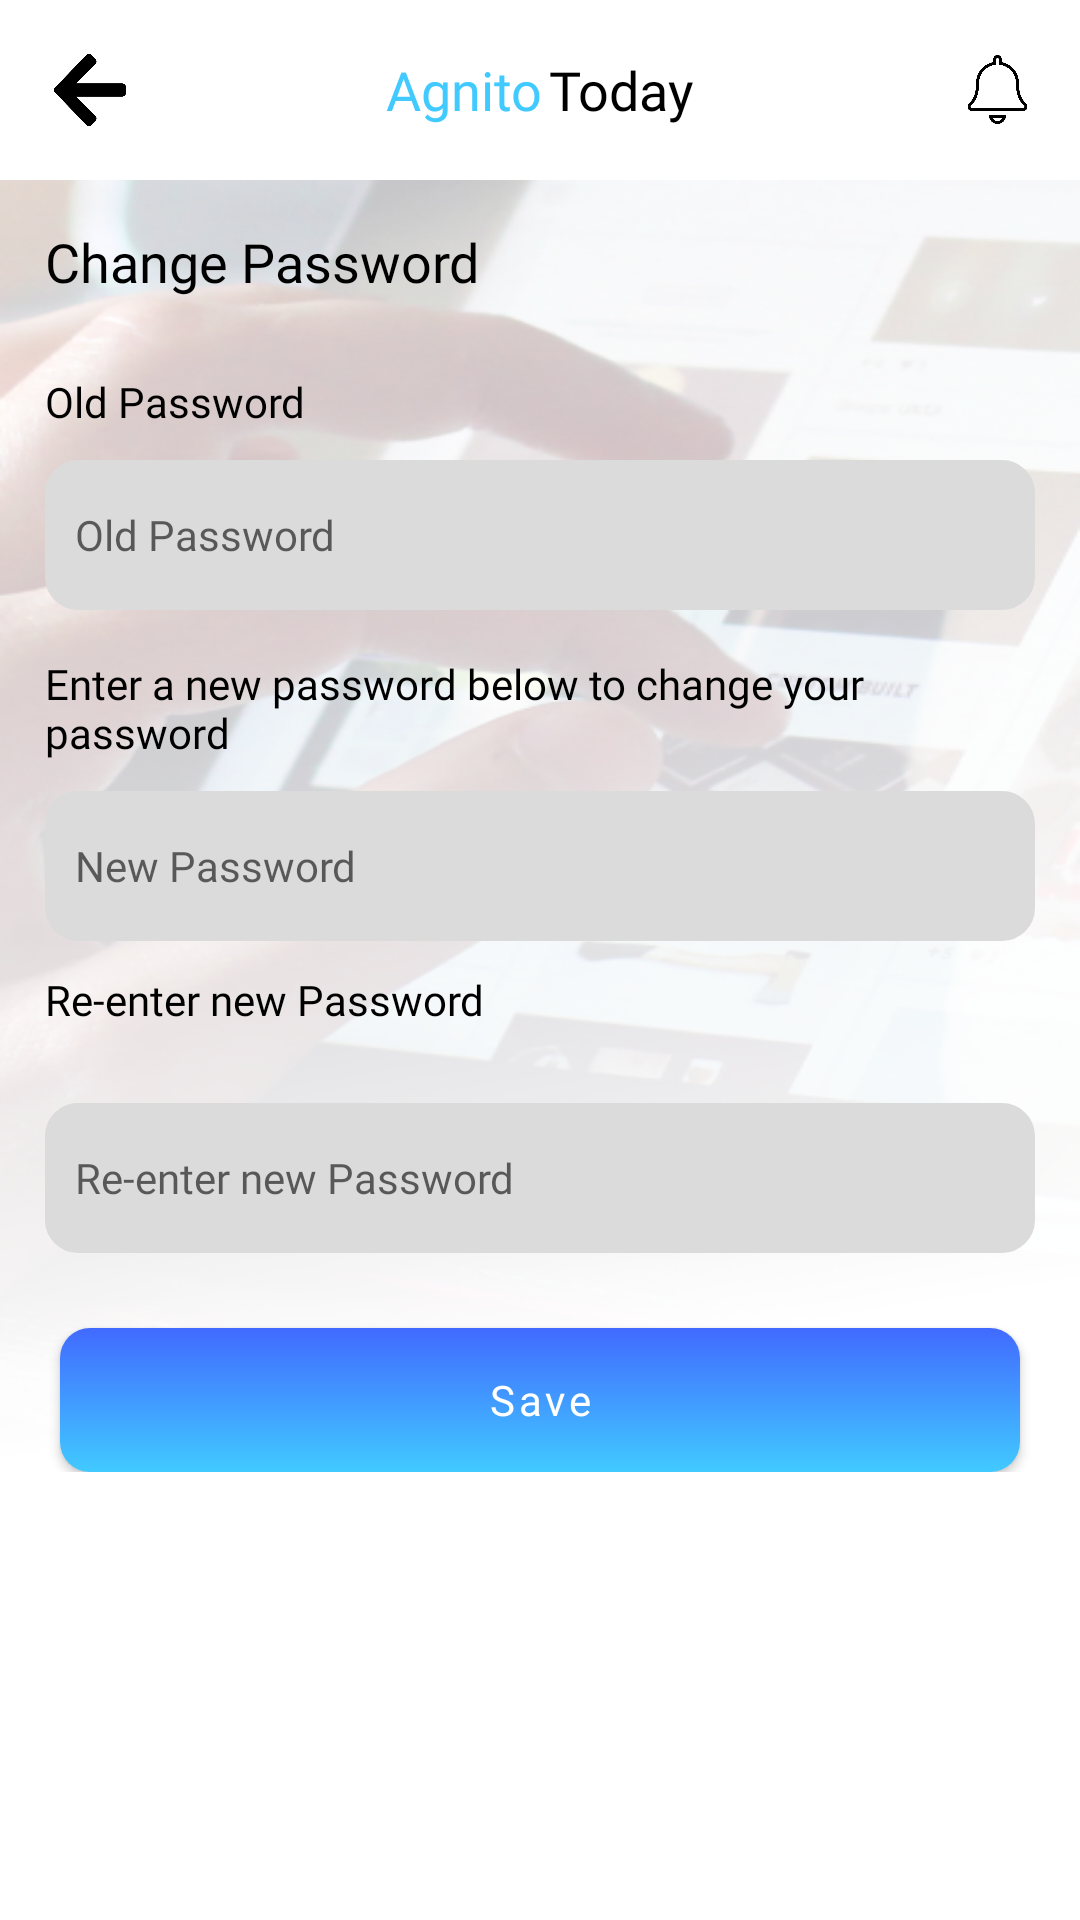

Where icons sit on this 1080w x 1920h app screen, as {"x1": x1, "y1": y1, "x2": x2, "y2": y2}:
arrow left: {"x1": 54, "y1": 54, "x2": 126, "y2": 126}
notification: {"x1": 968, "y1": 55, "x2": 1027, "y2": 124}
